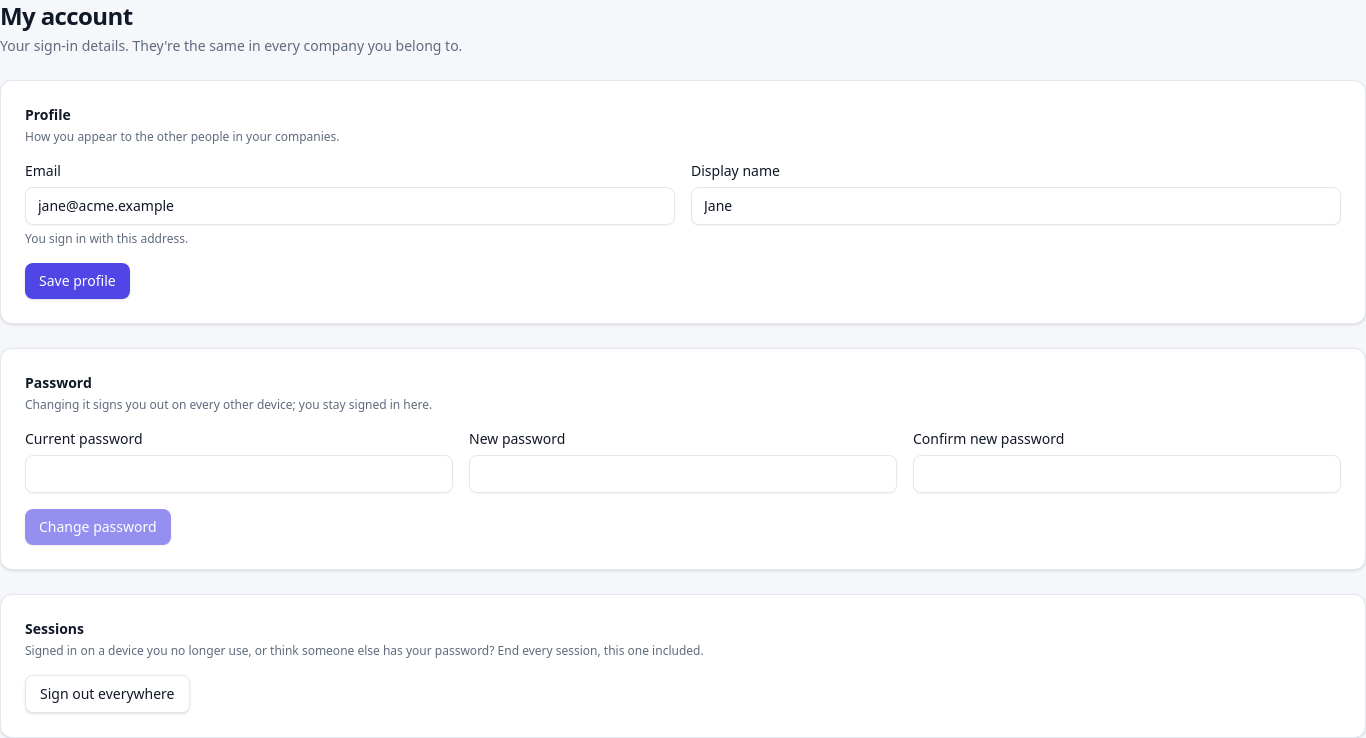
AccountPage › changes the password with the current one
The width and height of the screenshot is (1366, 738).
Type "Old-Passw0rd!" into the password field labelled "Current password".
click(239, 474); type("Old-Passw0rd!")  # box [25,455,453,493]
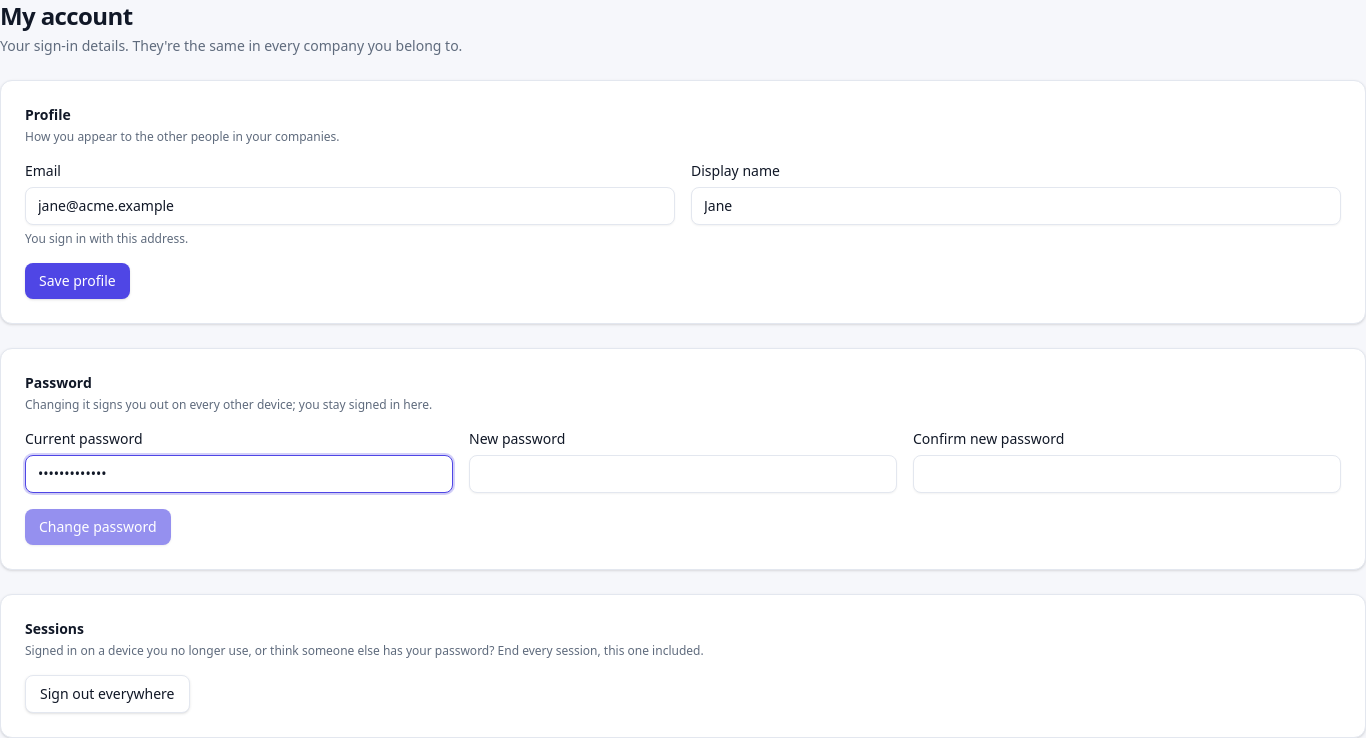
Type "N3w-Passw0rd!" into the password field labelled "New password".
click(683, 474); type("N3w-Passw0rd!")  # box [469,455,897,493]
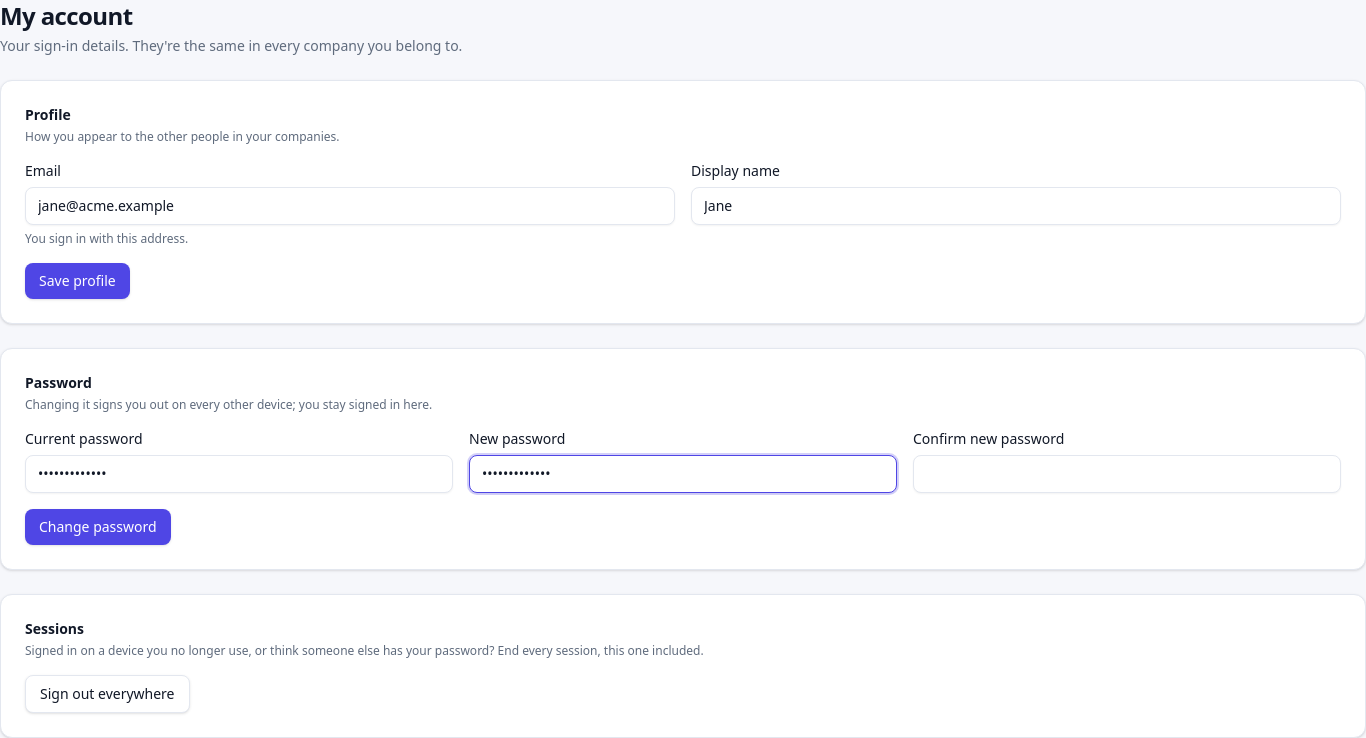
Type "N3w-Passw0rd!" into the password field labelled "Confirm new password".
click(1127, 474); type("N3w-Passw0rd!")  # box [913,455,1341,493]
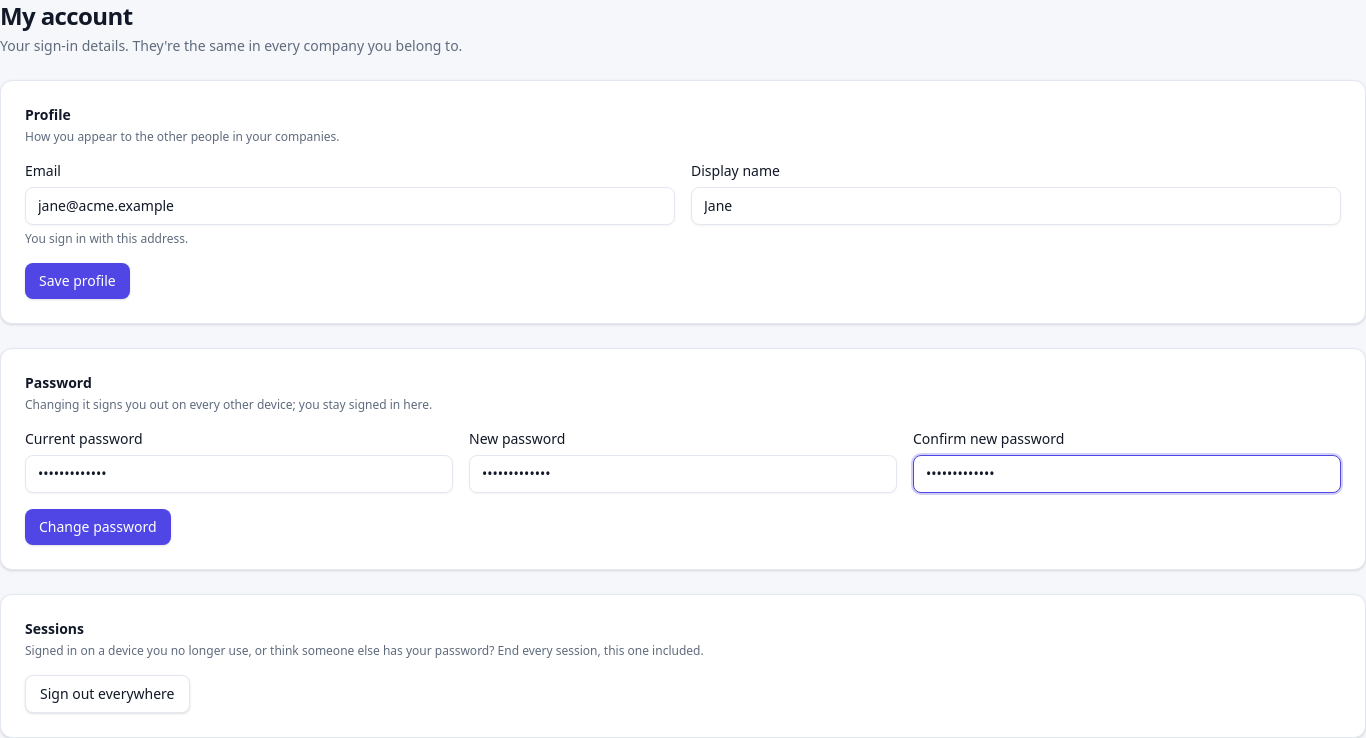
Click the button "Change password".
click(98, 527)  # box [25,509,171,545]
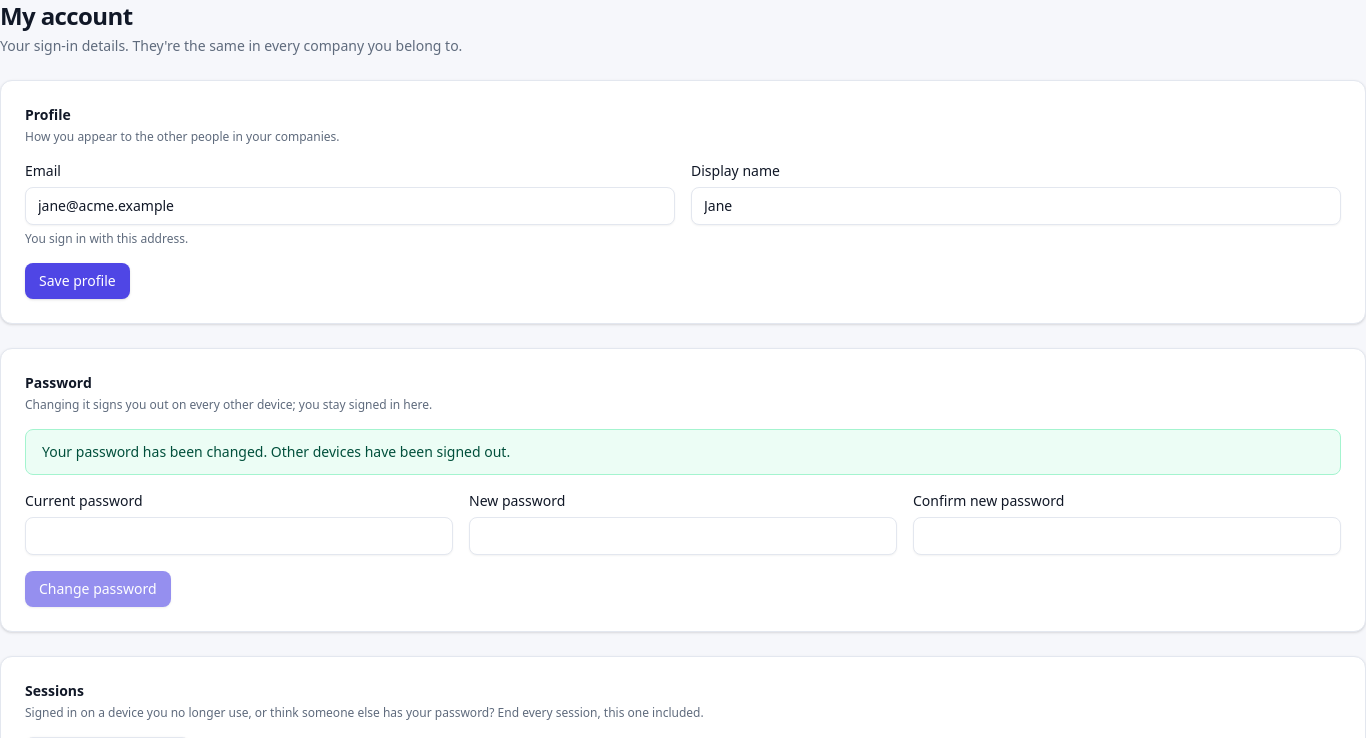
Expected: the text "Your password has been changed. Other devices have been signed out." is shown, [25,429,1341,475]
Expected: the password field labelled "Current password" is empty, [25,517,453,555]
